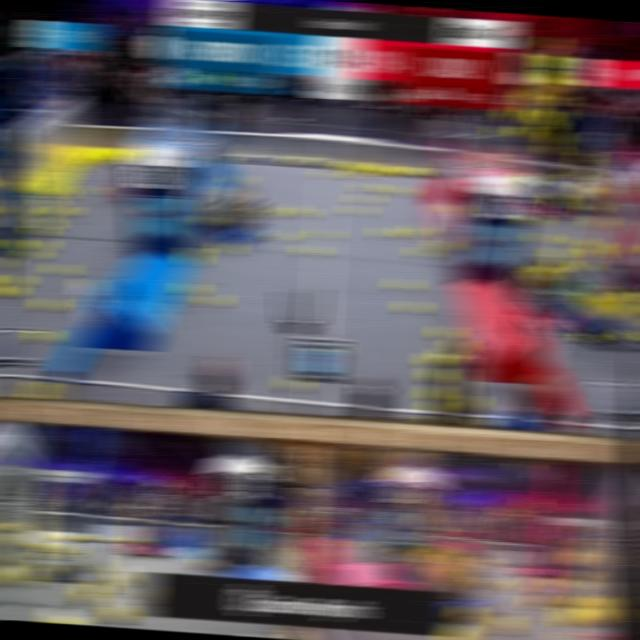ball_airborne: (542, 130, 564, 144), (541, 36, 561, 51), (520, 105, 541, 118), (502, 109, 522, 122), (538, 120, 558, 133), (518, 90, 537, 103), (407, 491, 426, 504), (532, 112, 552, 124), (554, 77, 574, 89), (547, 110, 567, 121), (514, 125, 532, 137), (492, 126, 510, 138), (477, 152, 496, 162), (409, 451, 428, 461), (532, 232, 551, 242), (551, 95, 569, 105), (523, 498, 539, 507), (515, 462, 532, 470), (404, 450, 420, 458), (397, 470, 414, 477)
ball_ground: (105, 600, 134, 624), (493, 614, 518, 635), (78, 584, 103, 604), (15, 568, 38, 588), (460, 394, 480, 410), (33, 329, 54, 344), (35, 562, 56, 577), (282, 376, 302, 391), (528, 597, 548, 611), (424, 353, 444, 367), (203, 294, 222, 308), (38, 298, 58, 311), (438, 326, 458, 339), (180, 281, 200, 293), (5, 274, 25, 286), (52, 264, 72, 276), (438, 350, 458, 362), (0, 284, 18, 297), (404, 300, 423, 312), (550, 248, 569, 260), (574, 260, 593, 272), (22, 249, 42, 260), (618, 331, 638, 342), (182, 256, 202, 267), (580, 333, 600, 344), (482, 577, 501, 588), (524, 216, 543, 227), (6, 240, 26, 250), (302, 246, 322, 256), (416, 247, 434, 258), (272, 231, 290, 242), (412, 224, 430, 235), (587, 250, 606, 260), (433, 242, 452, 252), (610, 244, 629, 254), (568, 236, 587, 246), (44, 204, 63, 214), (56, 205, 75, 215), (379, 226, 397, 236), (532, 576, 550, 586), (546, 578, 564, 588), (316, 230, 334, 240), (292, 208, 310, 218), (280, 204, 298, 214), (81, 186, 99, 196), (198, 558, 216, 568)
goal: (463, 130, 532, 172), (135, 104, 207, 142)
robot_blue: (571, 280, 636, 349), (202, 182, 265, 248), (550, 168, 602, 216)
robot_red: (512, 257, 585, 334), (520, 164, 570, 220), (125, 517, 178, 558)
